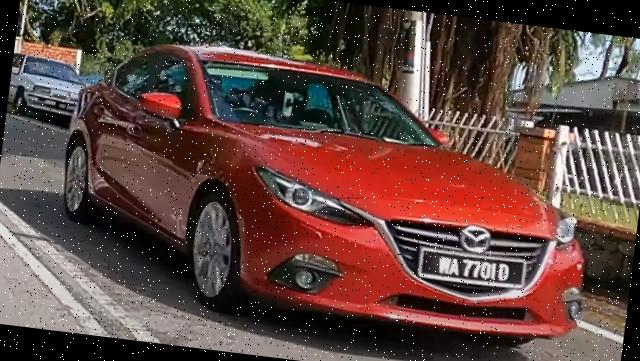License_Plate: (415, 245, 528, 292)
car: (49, 28, 610, 356), (7, 52, 90, 123)
